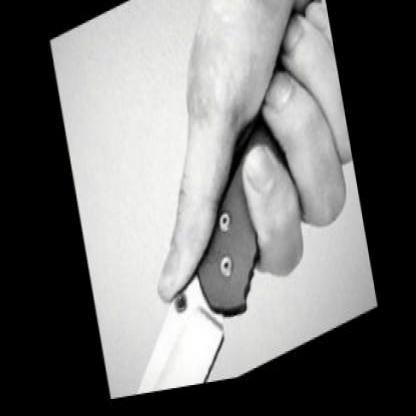knife: (60, 6, 354, 405)
